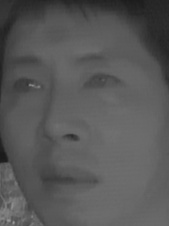eye: (76, 71, 125, 95), (9, 72, 46, 97)
mouth: (35, 159, 99, 197)
